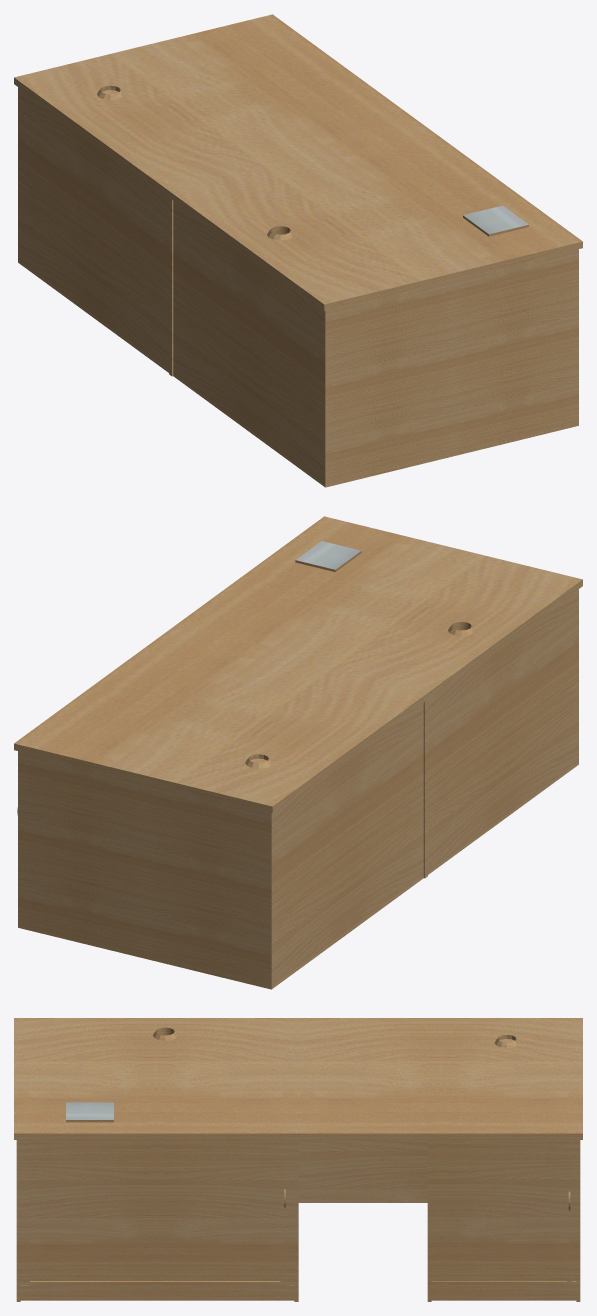
The model's file is biurko.fbx.
The picture shows the model from 3 angles, top to bottom: view 1: azimuth 30°, elevation 25°; view 2: azimuth 150°, elevation 25°; view 3: azimuth 270°, elevation 25°; orthographic projection. The views are drawn at different scales.
Visible parts, largest first — view 1: biurko:Mesh1; view 2: biurko:Mesh1; view 3: biurko:Mesh1.
Part boxes in pixels (box(x1,y1,x2,y2)): biurko:Mesh1: box(14, 14, 582, 487); biurko:Mesh1: box(14, 516, 582, 989); biurko:Mesh1: box(14, 1018, 582, 1301).
Bounding box in the file's own units: 103 × 71.2 × 212.
